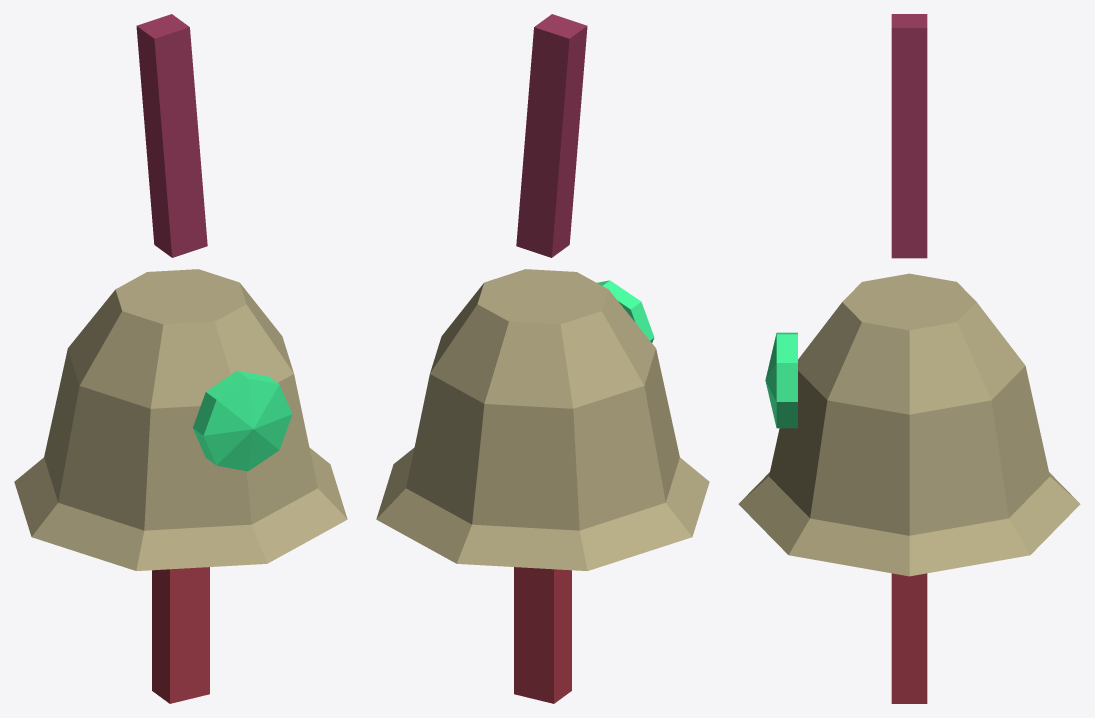
File: spirit_bell.obj
The picture shows the model from 3 angles, left to right: view 1: azimuth 30°, elevation 25°; view 2: azimuth 150°, elevation 25°; view 3: azimuth 270°, elevation 25°; orthographic projection.
Parts seen in each view (by area): view 1: sword_bell, bell_wrap, bell_gem, bell_tail, bell_wrap_edge, bell_tail_edge; view 2: sword_bell, bell_wrap, bell_tail, bell_wrap_edge, bell_tail_edge, bell_gem; view 3: sword_bell, bell_wrap_edge, bell_tail_edge, bell_gem.
Boxes of the visible parts, x1,y1,x2,y2 form: sword_bell: (14, 269, 347, 570); bell_wrap: (154, 27, 207, 257); bell_gem: (193, 370, 292, 471); bell_tail: (170, 567, 209, 703); bell_wrap_edge: (136, 14, 189, 257); bell_tail_edge: (152, 569, 169, 703); sword_bell: (376, 269, 709, 570); bell_wrap: (516, 27, 569, 257); bell_tail: (514, 567, 553, 703); bell_wrap_edge: (534, 14, 587, 257); bell_tail_edge: (554, 569, 571, 703); bell_gem: (597, 280, 654, 342); sword_bell: (738, 273, 1080, 576); bell_wrap_edge: (891, 14, 927, 258); bell_tail_edge: (891, 573, 927, 703); bell_gem: (765, 332, 797, 428).
Size of the model in its own units: 0.336 by 0.7217 by 0.336.
